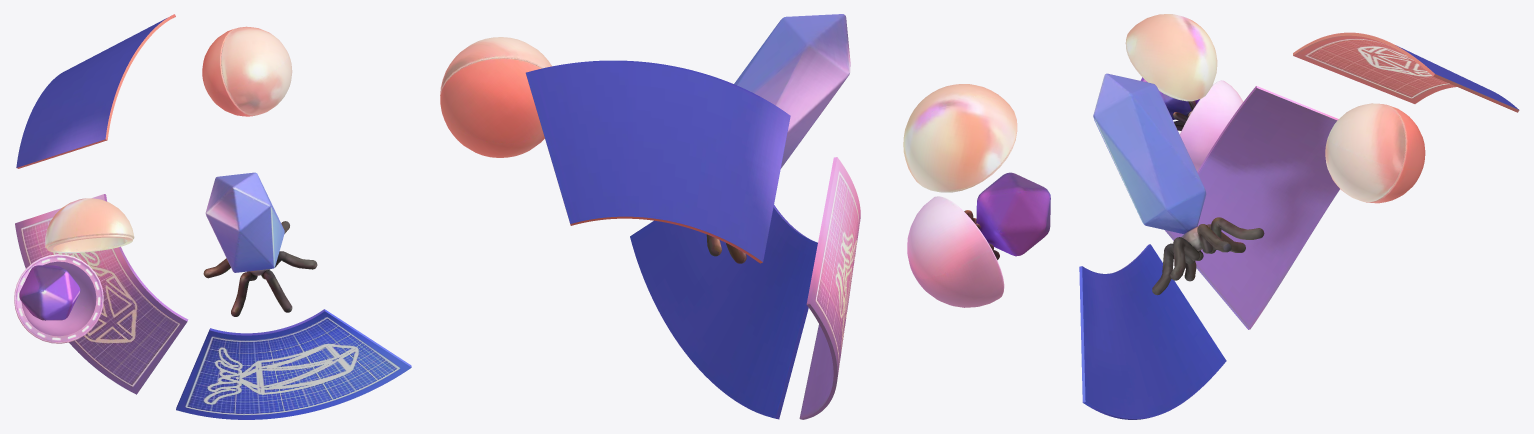
Rendered from greenleaf_comp.glb.
The picture shows the model from 3 angles, left to right: view 1: azimuth 30°, elevation 25°; view 2: azimuth 150°, elevation 25°; view 3: azimuth 270°, elevation 25°; orthographic projection. The views are drawn at different scales.
Visible parts, largest first — view 1: papel5.001_Baked; view 2: papel5.001_Baked; view 3: papel5.001_Baked.
Part boxes in pixels (x1,y1,x2,y2): papel5.001_Baked: [14, 14, 411, 419]; papel5.001_Baked: [440, 14, 1050, 419]; papel5.001_Baked: [1079, 14, 1519, 419].
Bounding box in the file's own units: 3.2 × 2.76 × 3.1.
Materials: 1 (1 with a texture image).
